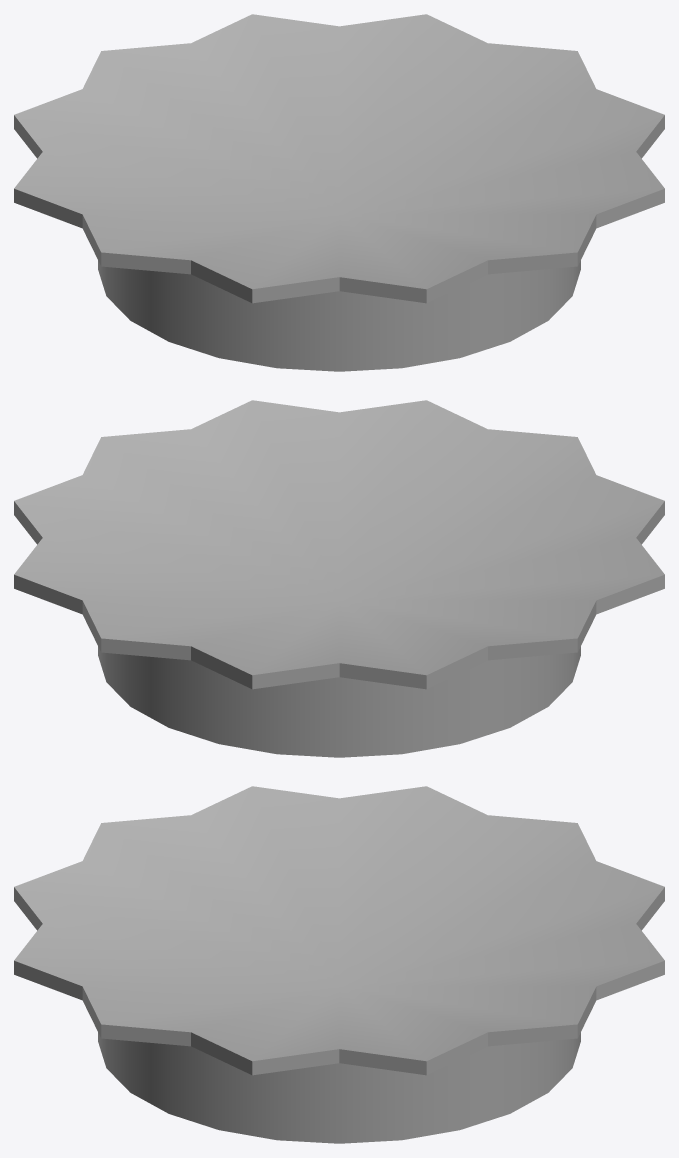
Rendered from ButtonmSkirt.fbx.
The picture shows the model from 3 angles, top to bottom: view 1: azimuth 30°, elevation 25°; view 2: azimuth 150°, elevation 25°; view 3: azimuth 270°, elevation 25°; orthographic projection.
Visible parts, largest first — view 1: Окружность.002; view 2: Окружность.002; view 3: Окружность.002.
Part boxes in pixels (x1,y1,x2,y2): Окружность.002: [14, 14, 664, 371]; Окружность.002: [14, 400, 664, 757]; Окружность.002: [14, 786, 664, 1143].
Size of the model in its own units: 240 by 47.94 by 240.
1 material, 1 textured.
